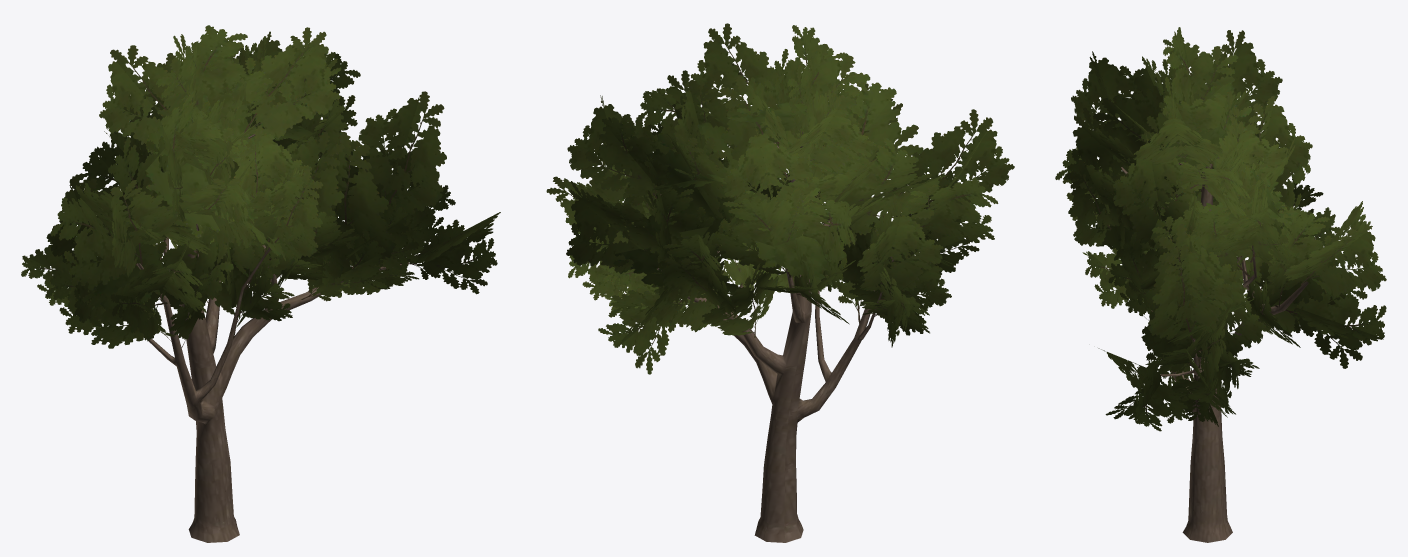
3 renders of one model, left to right at view 1: azimuth 30°, elevation 25°; view 2: azimuth 150°, elevation 25°; view 3: azimuth 270°, elevation 25°, orthographic. The views are drawn at different scales.
Visible parts, largest first — view 1: body0_model0_lod0_mesh0; view 2: body0_model0_lod0_mesh0; view 3: body0_model0_lod0_mesh0.
Part boxes in pixels (left/top/right/bottom): body0_model0_lod0_mesh0: left=21, top=25, right=500, bottom=542; body0_model0_lod0_mesh0: left=546, top=23, right=1014, bottom=542; body0_model0_lod0_mesh0: left=1055, top=27, right=1386, bottom=542.
Bounding box in the file's own units: 473 × 532 × 328.
Materials: 1 (1 with a texture image).
